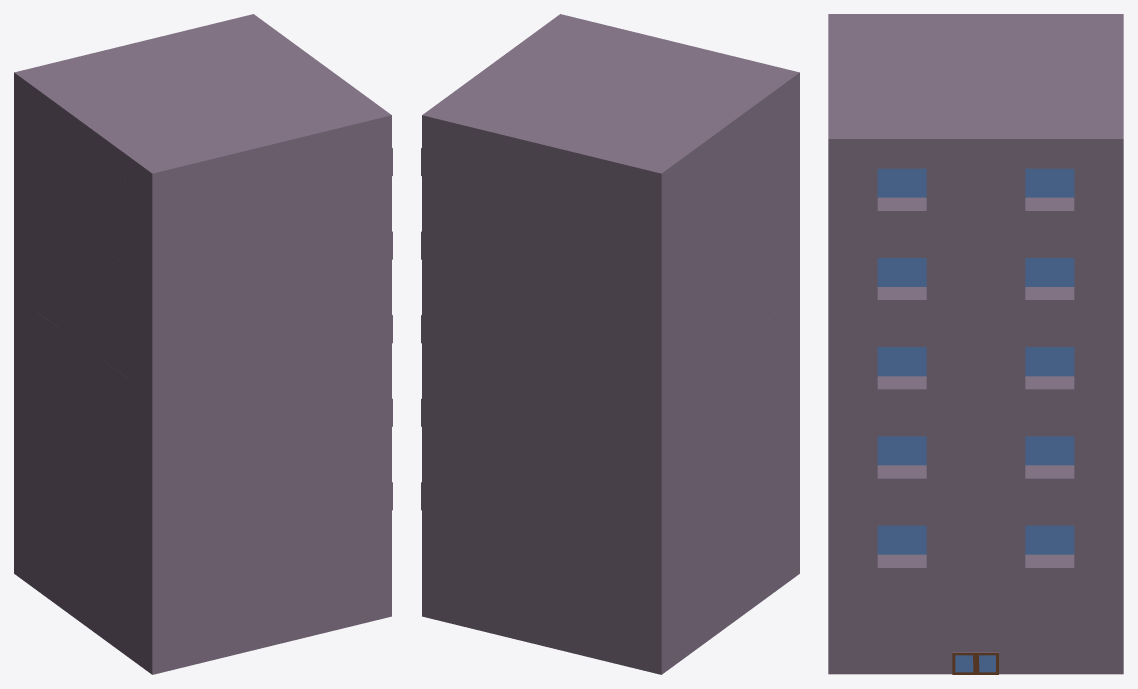
Rendered from predio6.fbx.
3 views of the same model, side by side, from view 1: azimuth 30°, elevation 25°; view 2: azimuth 150°, elevation 25°; view 3: azimuth 270°, elevation 25° (orthographic). The views are drawn at different scales.
Visible parts, largest first — view 1: Cube; view 2: Cube; view 3: Cube.
Boxes of the visible parts, x1,y1,x2,y2 form: Cube: (14, 14, 392, 674); Cube: (421, 14, 799, 674); Cube: (828, 14, 1123, 674).
Bounding box in the file's own units: 220 × 400 × 200.
